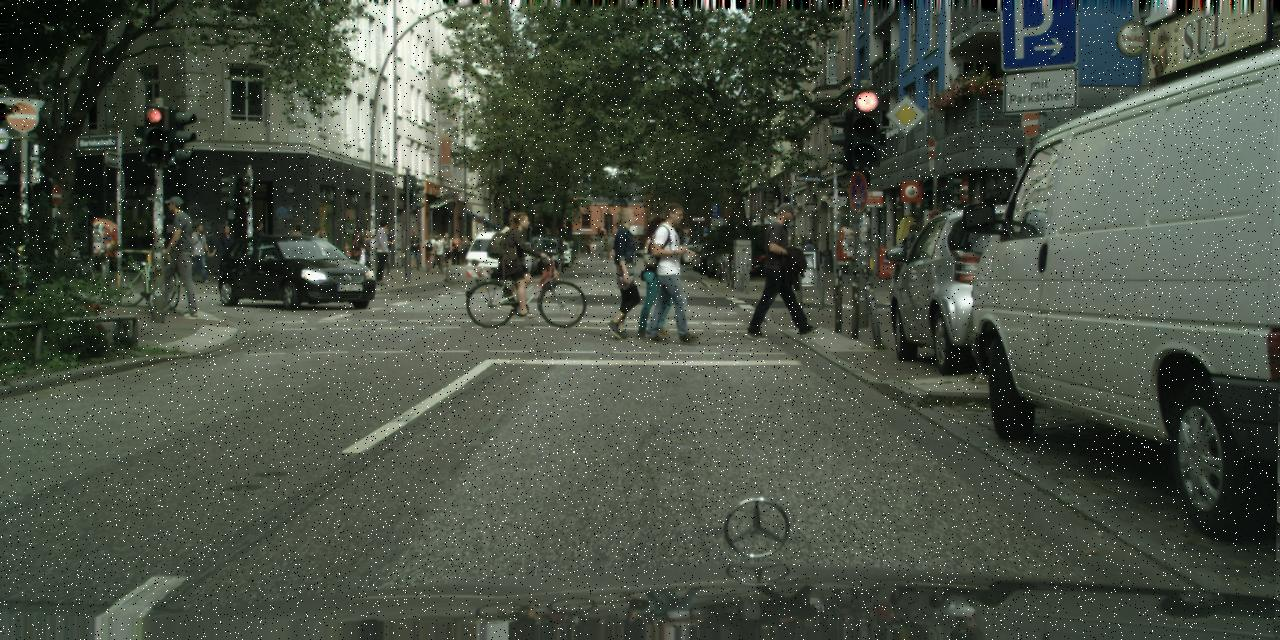ped: (644, 202, 701, 342), (757, 203, 812, 338), (594, 208, 649, 340), (632, 216, 680, 335), (150, 196, 198, 315), (499, 212, 536, 302), (368, 219, 394, 284), (900, 224, 926, 287), (186, 222, 211, 282), (217, 224, 237, 275), (249, 222, 269, 272), (376, 228, 395, 274), (307, 227, 325, 272), (347, 227, 365, 271), (288, 224, 306, 267), (314, 230, 332, 271), (359, 229, 375, 269), (439, 232, 455, 272), (407, 229, 422, 269), (422, 234, 437, 271), (803, 239, 815, 269), (434, 233, 444, 268), (459, 235, 470, 264), (452, 233, 459, 266), (586, 240, 592, 254), (432, 266, 433, 269), (432, 271, 432, 272), (442, 247, 442, 250)
